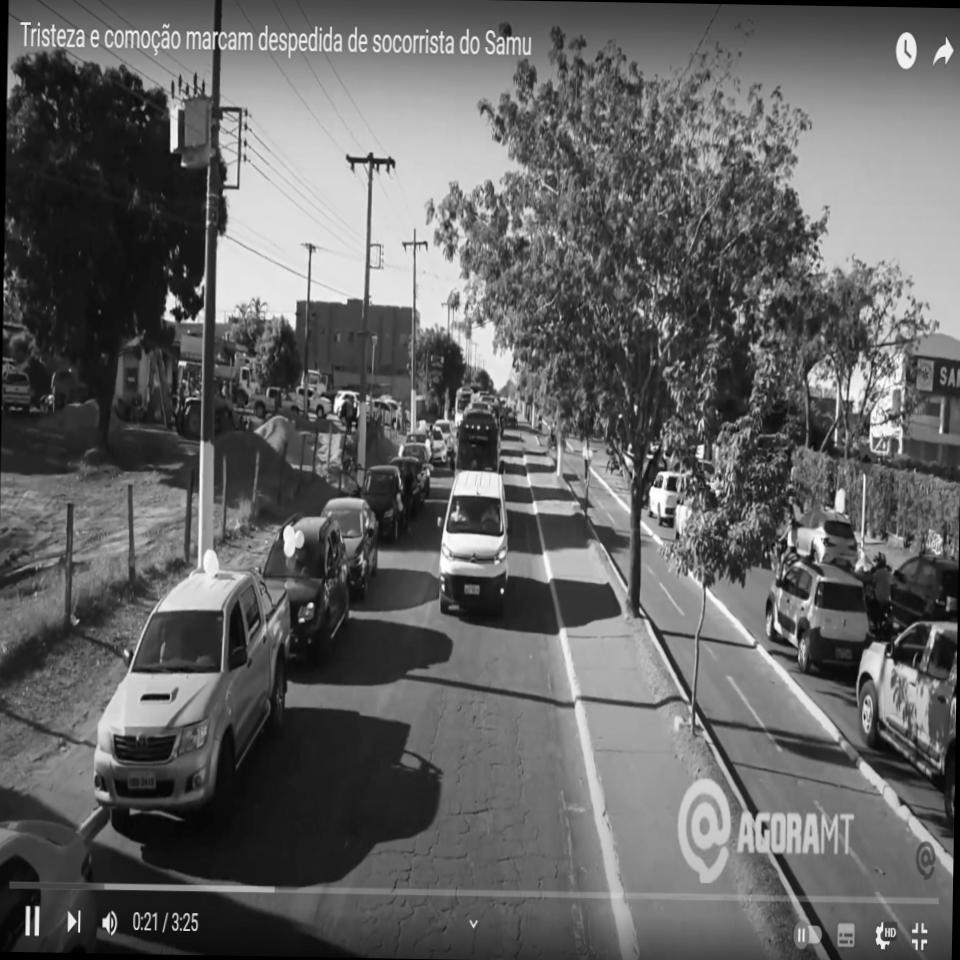bombeiro: (449, 408, 506, 476)
